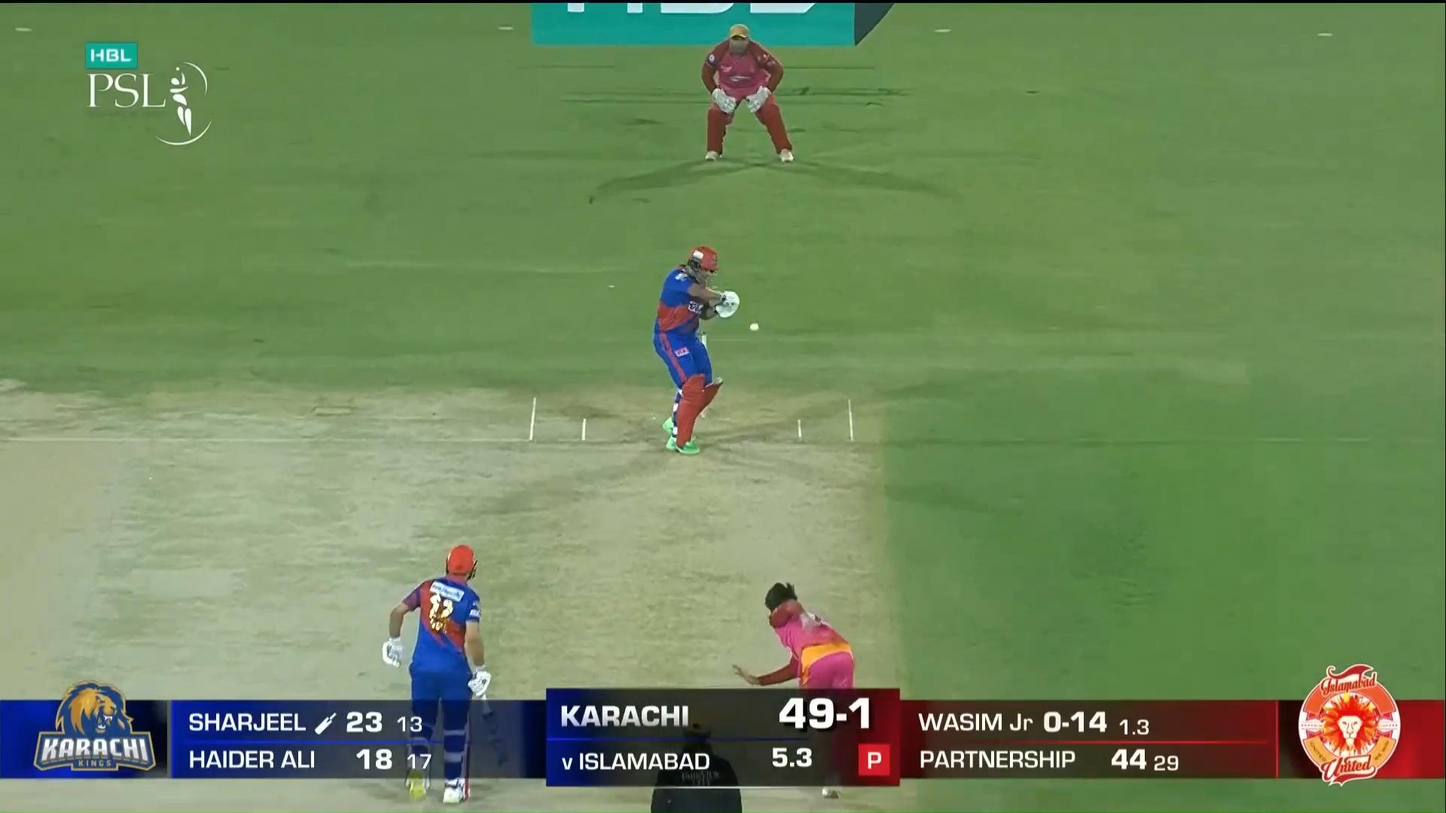batsman: (654, 245, 741, 455)
